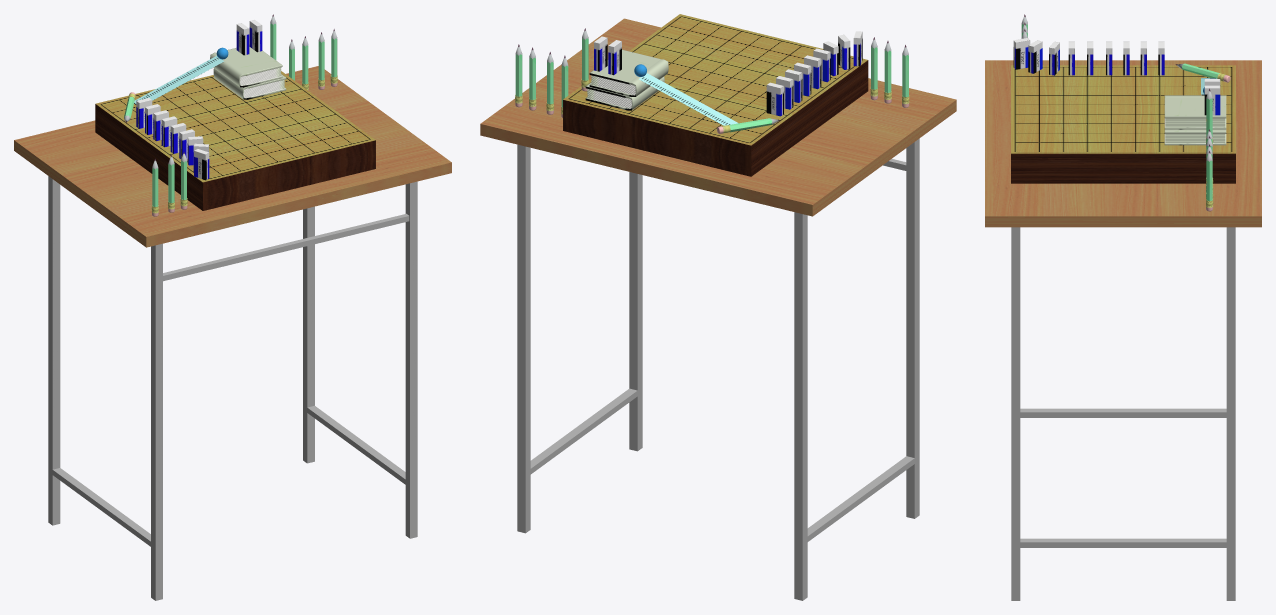
The model's file is slider_on_desk_limes_v8.glb.
3 renders of one model, left to right at view 1: azimuth 30°, elevation 25°; view 2: azimuth 150°, elevation 25°; view 3: azimuth 270°, elevation 25°, orthographic. The views are drawn at different scales.
Parts seen in each view (by area): view 1: board, desk_top, desk_leg2, desk_leg3, desk_leg4, desk_leg1, desk_bar_top_1to3, book02, desk_bar_bottom_1to2, desk_bar_bottom_3to4, book01, Ruler; view 2: board, desk_top, desk_leg3, desk_leg1, desk_leg4, desk_leg2, book02, desk_bar_bottom_1to2, desk_bar_bottom_3to4, Ruler, book01; view 3: board, desk_top, desk_leg2, desk_leg1, desk_bar_bottom_1to2, desk_bar_bottom_3to4, book02, book01, Eraser11, Eraser10, Eraser01, Dwarf_Pencil01 (+1 smaller).
Part boxes in pixels (<box>): board: <box>95,71,375,210</box>; desk_top: <box>14,66,451,247</box>; desk_leg2: <box>405,181,417,538</box>; desk_leg3: <box>48,176,60,525</box>; desk_leg4: <box>151,243,162,600</box>; desk_leg1: <box>303,206,314,463</box>; desk_bar_top_1to3: <box>163,213,409,281</box>; book02: <box>210,45,282,87</box>; desk_bar_bottom_1to2: <box>305,405,407,486</box>; desk_bar_bottom_3to4: <box>50,468,150,546</box>; book01: <box>213,68,286,99</box>; Ruler: <box>134,56,224,104</box>; board: <box>563,14,868,176</box>; desk_top: <box>480,18,956,216</box>; desk_leg3: <box>794,212,807,600</box>; desk_leg1: <box>517,144,530,533</box>; desk_leg4: <box>906,138,919,518</box>; desk_leg2: <box>629,172,642,451</box>; book02: <box>589,49,668,96</box>; desk_bar_bottom_1to2: <box>528,388,637,476</box>; desk_bar_bottom_3to4: <box>807,456,916,541</box>; Ruler: <box>639,73,738,125</box>; book01: <box>585,76,664,110</box>; board: <box>1011,65,1235,183</box>; desk_top: <box>985,60,1261,227</box>; desk_leg2: <box>1011,227,1020,600</box>; desk_leg1: <box>1226,227,1235,600</box>; desk_bar_bottom_1to2: <box>1016,538,1230,547</box>; desk_bar_bottom_3to4: <box>1020,408,1226,417</box>; book02: <box>1164,95,1226,129</box>; book01: <box>1164,129,1226,145</box>; Eraser11: <box>1013,38,1030,69</box>; Eraser10: <box>1028,40,1042,73</box>; Eraser01: <box>1204,85,1220,115</box>; Dwarf_Pencil01: <box>1206,151,1213,211</box>.
Bounding box in the file's own units: 12 × 17.48 × 9.
19 materials, 17 textured.
